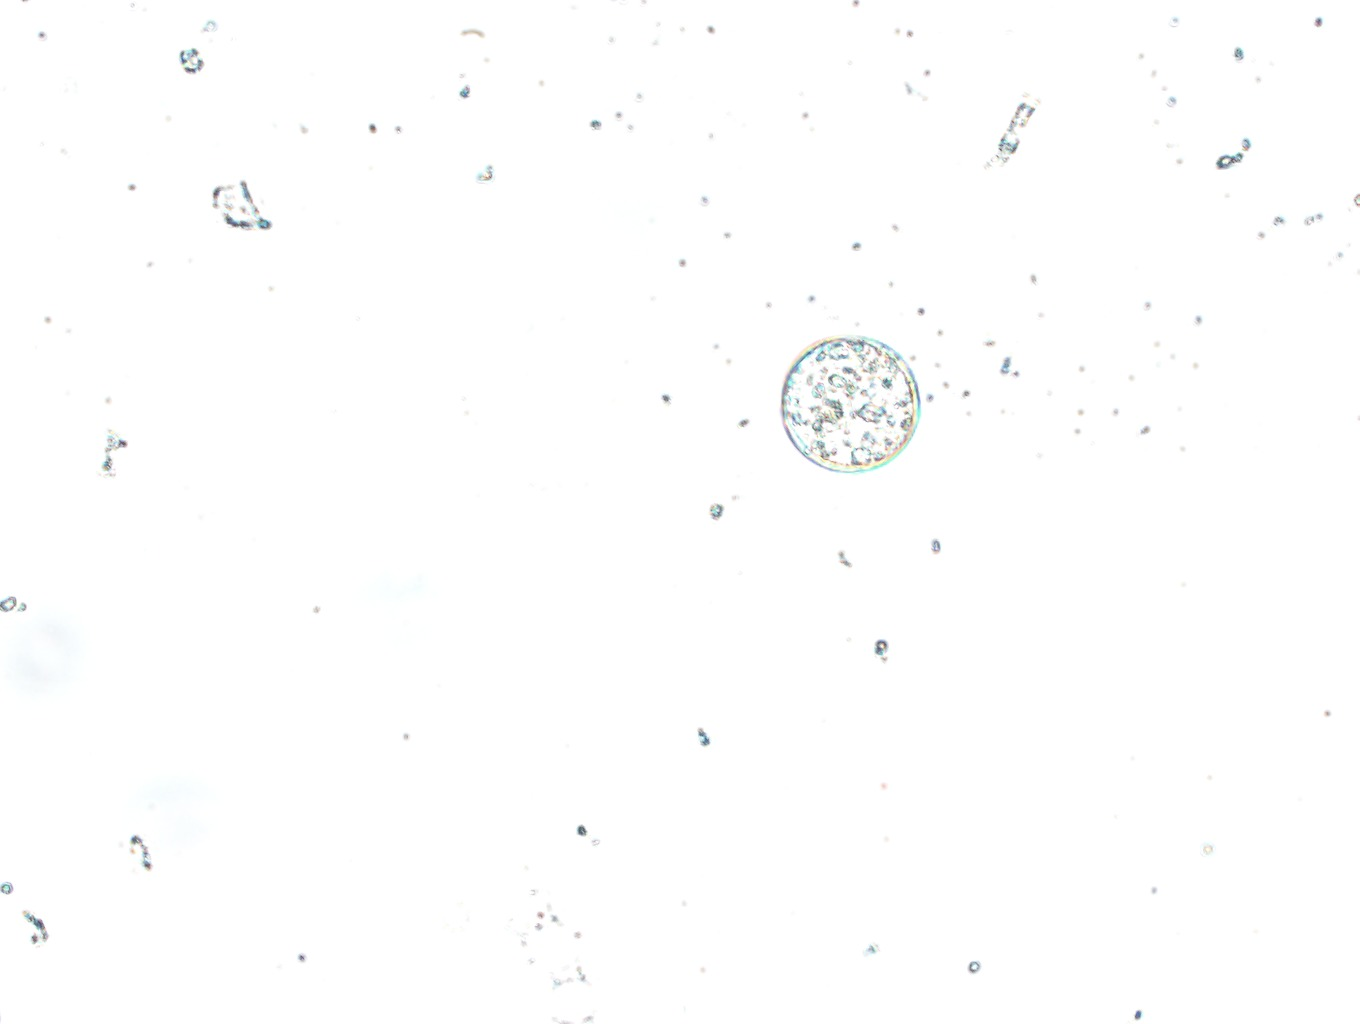coscinodiscus: (777, 335, 922, 475)
eucampia: (493, 894, 604, 1024)
